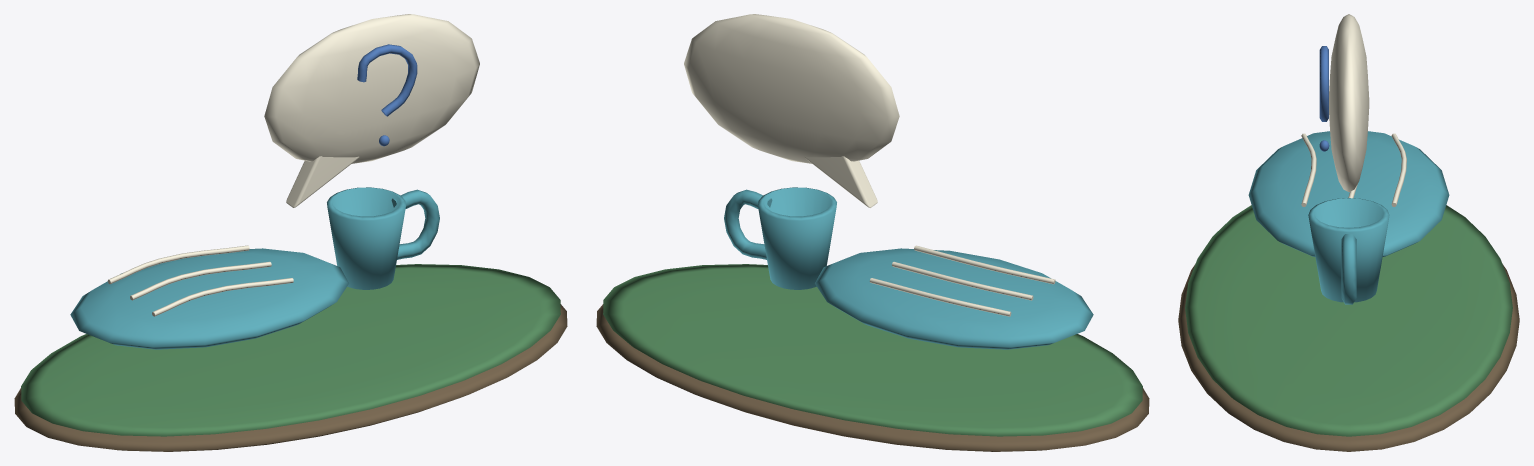
Rendered from thirsty-question.glb.
3 views of the same model, side by side, from view 1: azimuth 30°, elevation 25°; view 2: azimuth 150°, elevation 25°; view 3: azimuth 270°, elevation 25° (orthographic).
Parts seen in each view (by area): view 1: thirsty-question_surface_01, thirsty-question_surface_02, thirsty-question_surface_03, thirsty-question_surface_00, thirsty-question_surface_04; view 2: thirsty-question_surface_01, thirsty-question_surface_03, thirsty-question_surface_02, thirsty-question_surface_00; view 3: thirsty-question_surface_01, thirsty-question_surface_02, thirsty-question_surface_00, thirsty-question_surface_03, thirsty-question_surface_04.
Part boxes in pixels (x1,y1,x2,y2): thirsty-question_surface_01: [21, 264, 560, 436]; thirsty-question_surface_02: [70, 187, 439, 349]; thirsty-question_surface_03: [107, 14, 479, 316]; thirsty-question_surface_00: [14, 304, 567, 451]; thirsty-question_surface_04: [357, 44, 417, 146]; thirsty-question_surface_01: [603, 264, 1142, 436]; thirsty-question_surface_03: [684, 14, 1055, 316]; thirsty-question_surface_02: [724, 187, 1093, 349]; thirsty-question_surface_00: [596, 304, 1149, 451]; thirsty-question_surface_01: [1185, 205, 1512, 436]; thirsty-question_surface_02: [1248, 131, 1449, 304]; thirsty-question_surface_00: [1178, 265, 1519, 451]; thirsty-question_surface_03: [1301, 14, 1406, 206]; thirsty-question_surface_04: [1319, 46, 1329, 151].
Size of the model in its own units: 4.56 by 2.8 by 2.5.
